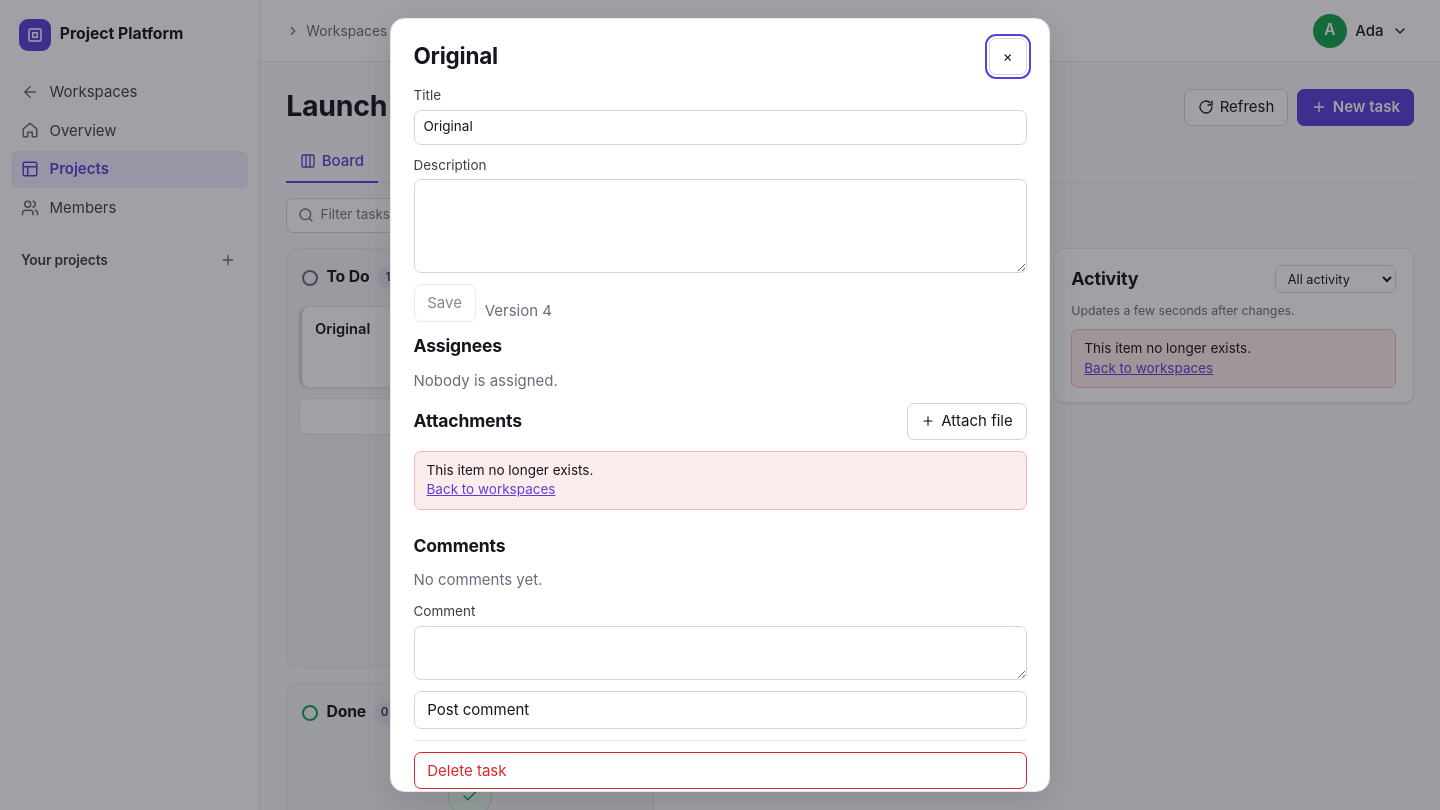
Test: stale edit (409 VERSION_CONFLICT) › can discard the draft in favour of the latest version
The image size is (1440, 810).
Step 1. Replace the text in the field labelled "Title" with "A title" → (720, 127), box [414,110,1026,145]
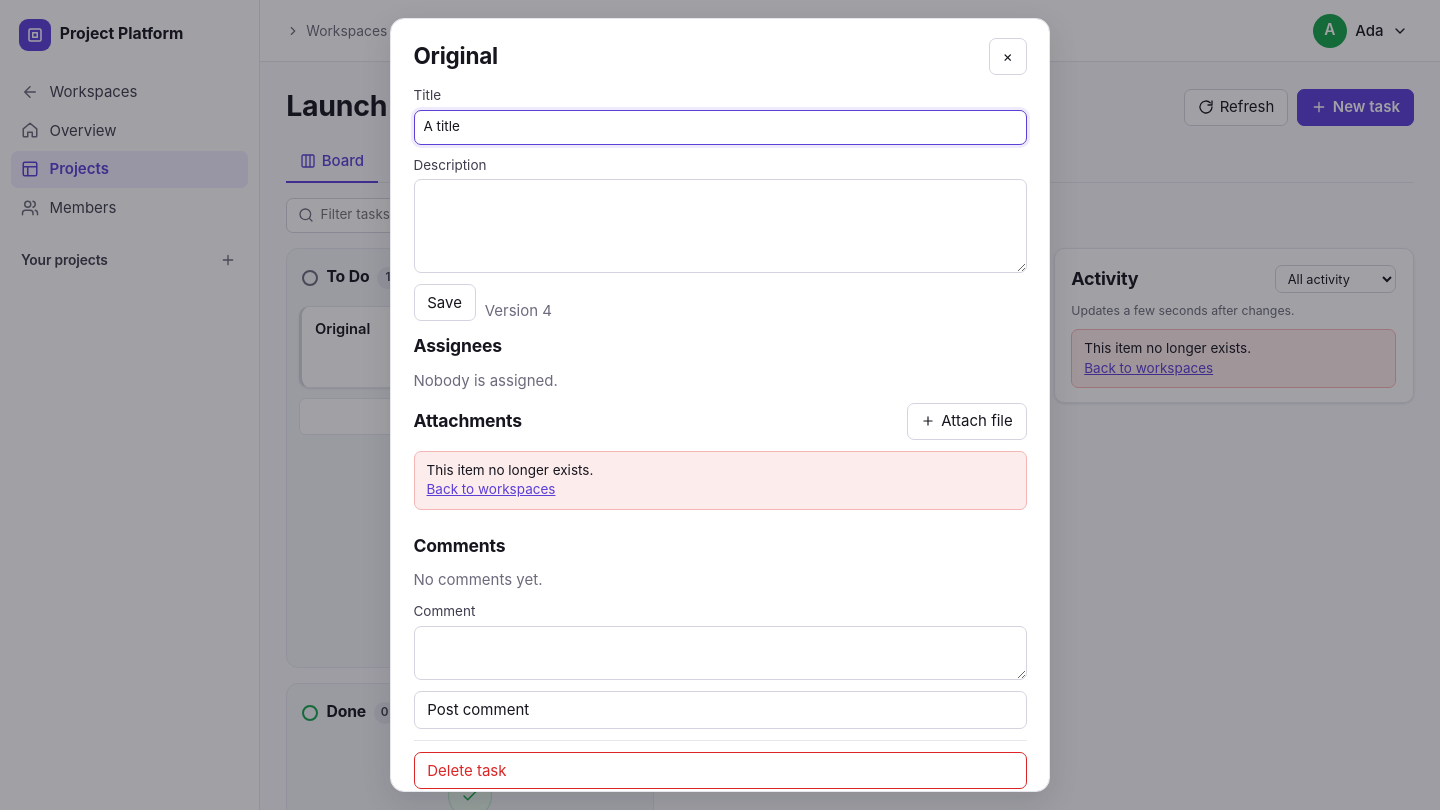
Step 2. Click the button "Save" → click(445, 303), box [414,284,476,322]
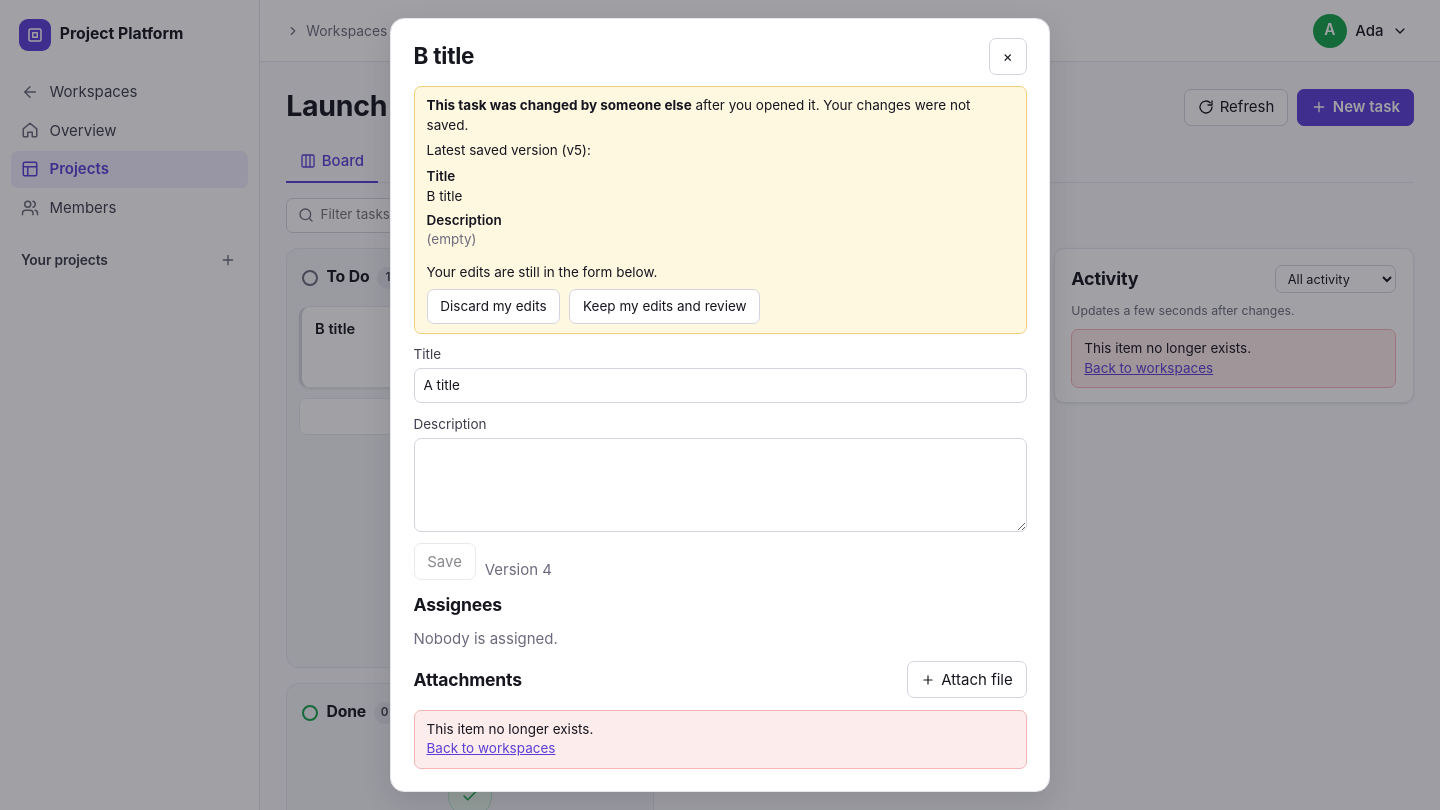
Now the text "B title" is shown, box [426,188,462,204]
Step 3. Click the button "Discard my edits" → click(493, 306), box [426,289,560,324]
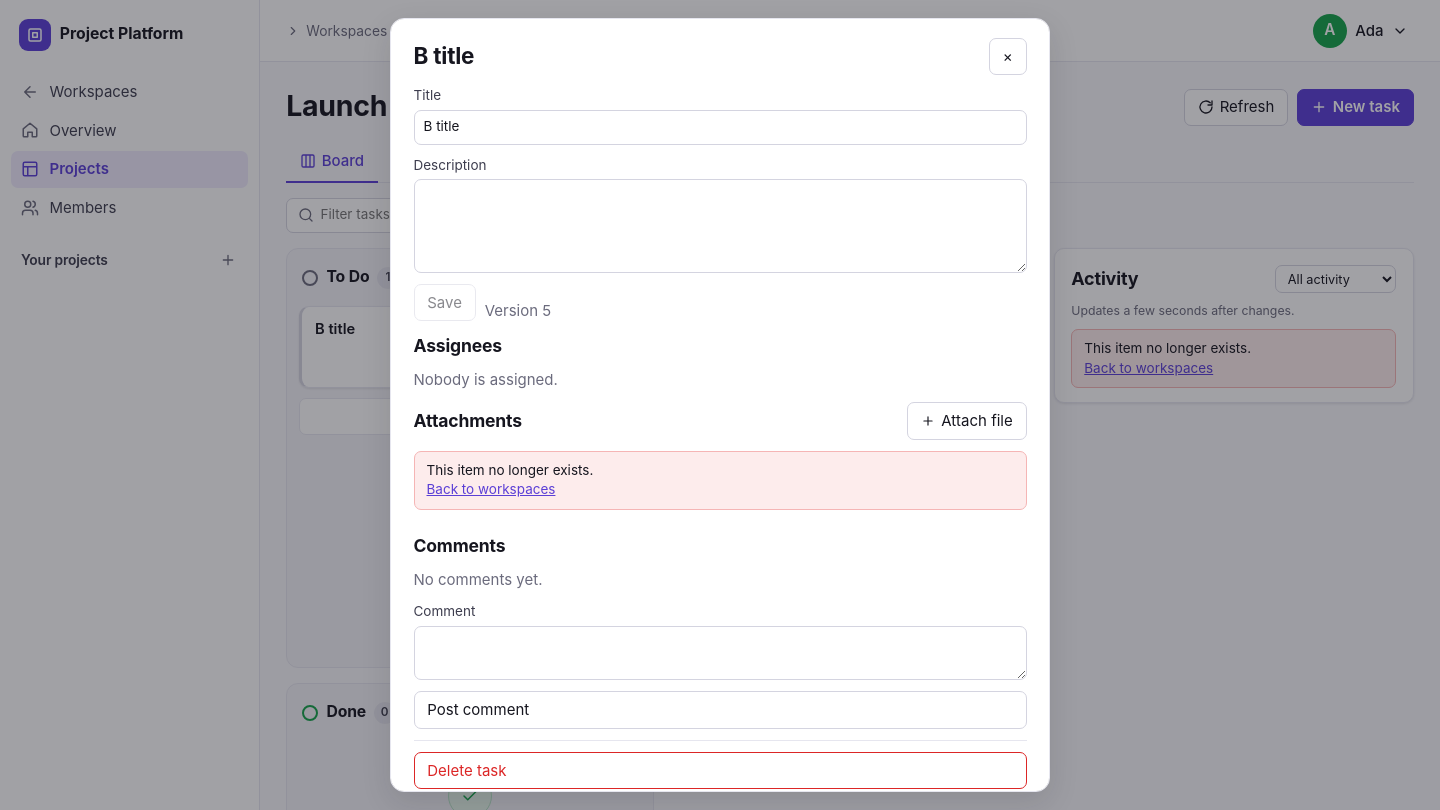
Now the button "Save" is disabled, box [414,284,476,322]
Now the field labelled "Title" holds "B title", box [414,110,1026,145]
